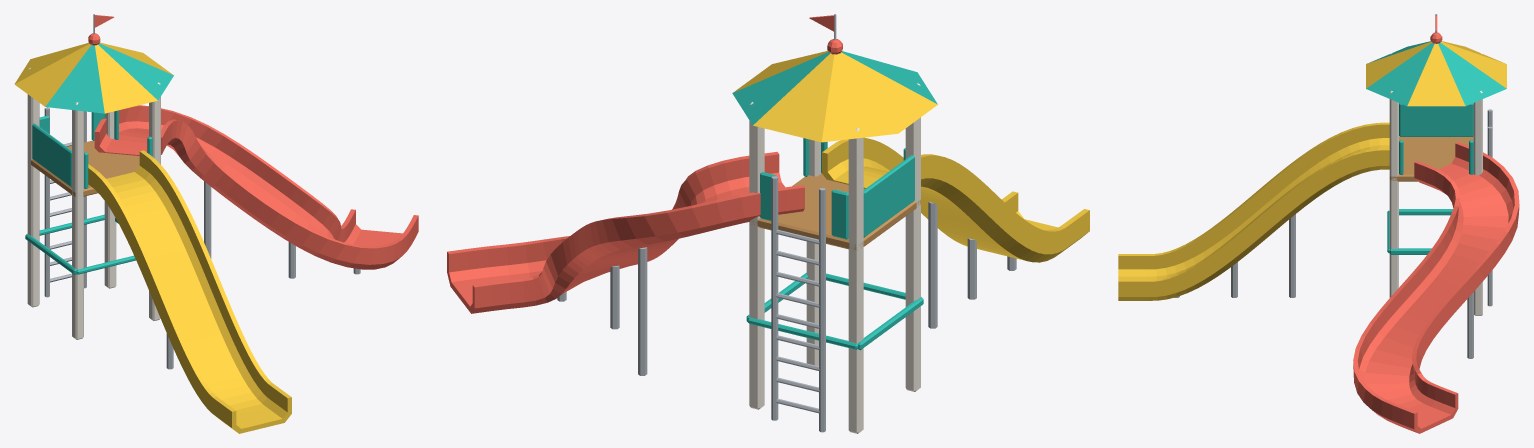
The model's file is snack-slide.glb.
3 renders of one model, left to right at view 1: azimuth 30°, elevation 25°; view 2: azimuth 150°, elevation 25°; view 3: azimuth 270°, elevation 25°, orthographic. The views are drawn at different scales.
Parts seen in each view (by area): view 1: Slide_Tower_Body, Slide_Straight, Slide_Curvy; view 2: Slide_Tower_Body, Slide_Curvy, Slide_Straight; view 3: Slide_Curvy, Slide_Tower_Body, Slide_Straight.
Boxes of the visible parts, x1=… form: Slide_Tower_Body: x1=14, y1=14, x2=360, y2=369; Slide_Straight: x1=88, y1=150, x2=291, y2=433; Slide_Curvy: x1=94, y1=105, x2=418, y2=269; Slide_Tower_Body: x1=557, y1=14, x2=1016, y2=433; Slide_Curvy: x1=447, y1=151, x2=804, y2=313; Slide_Straight: x1=822, y1=137, x2=1089, y2=262; Slide_Curvy: x1=1353, y1=142, x2=1519, y2=433; Slide_Tower_Body: x1=1174, y1=14, x2=1506, y2=358; Slide_Straight: x1=1118, y1=122, x2=1389, y2=300.
Bounding box in the file's own units: 26.49 × 20 × 25.73.
